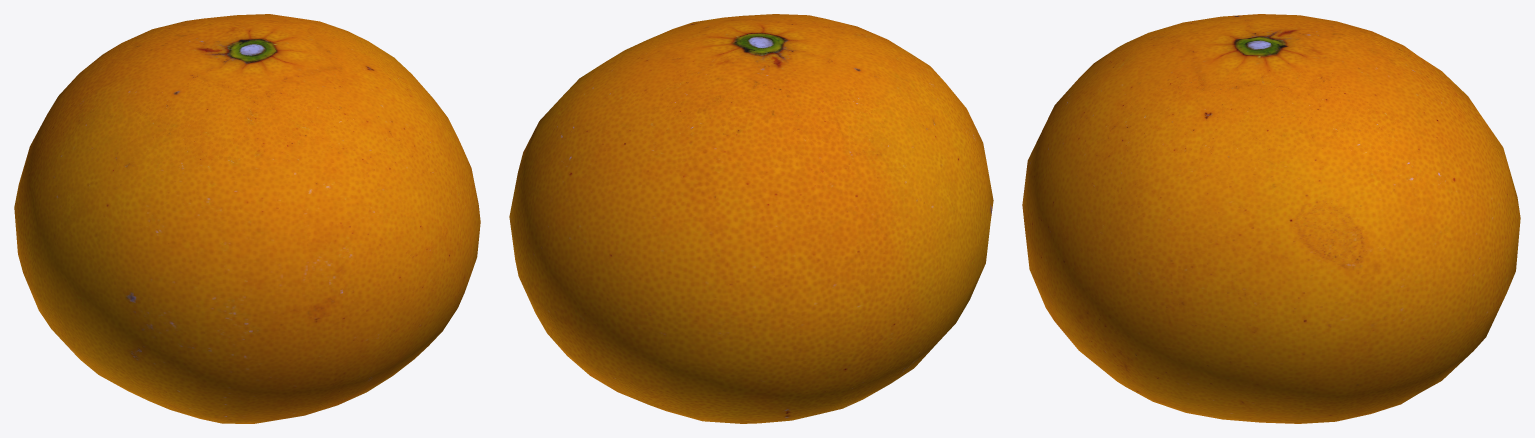
Rendered from orange.glb.
The picture shows the model from 3 angles, left to right: view 1: azimuth 30°, elevation 25°; view 2: azimuth 150°, elevation 25°; view 3: azimuth 270°, elevation 25°; orthographic projection. The views are drawn at different scales.
Visible parts, largest first — view 1: Mandarin Orange_Mandarin Orange PBR_0; view 2: Mandarin Orange_Mandarin Orange PBR_0; view 3: Mandarin Orange_Mandarin Orange PBR_0.
Boxes of the visible parts, x1,y1,x2,y2 form: Mandarin Orange_Mandarin Orange PBR_0: (14, 14, 480, 423); Mandarin Orange_Mandarin Orange PBR_0: (509, 14, 993, 423); Mandarin Orange_Mandarin Orange PBR_0: (1022, 14, 1520, 423).
Size of the model in its own units: 0.24 by 0.1902 by 0.2505.
1 material, 1 textured.
